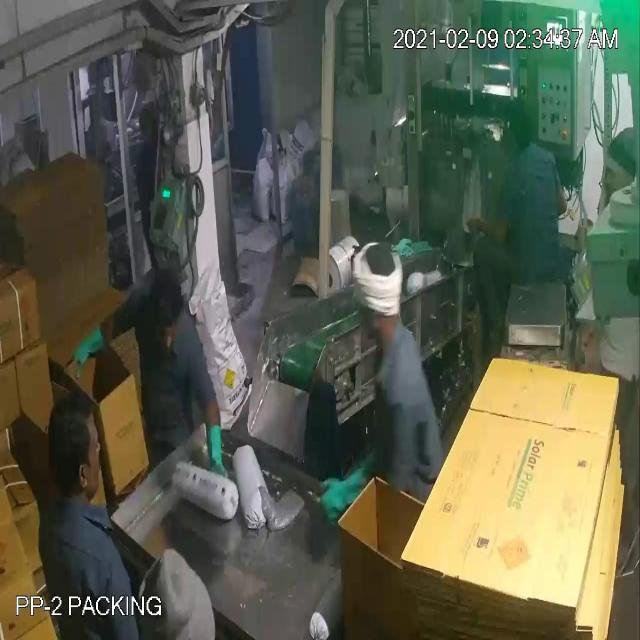gloves: (312, 454, 394, 520), (196, 416, 230, 496), (67, 322, 113, 375)
no-gloves: (462, 209, 520, 255)
